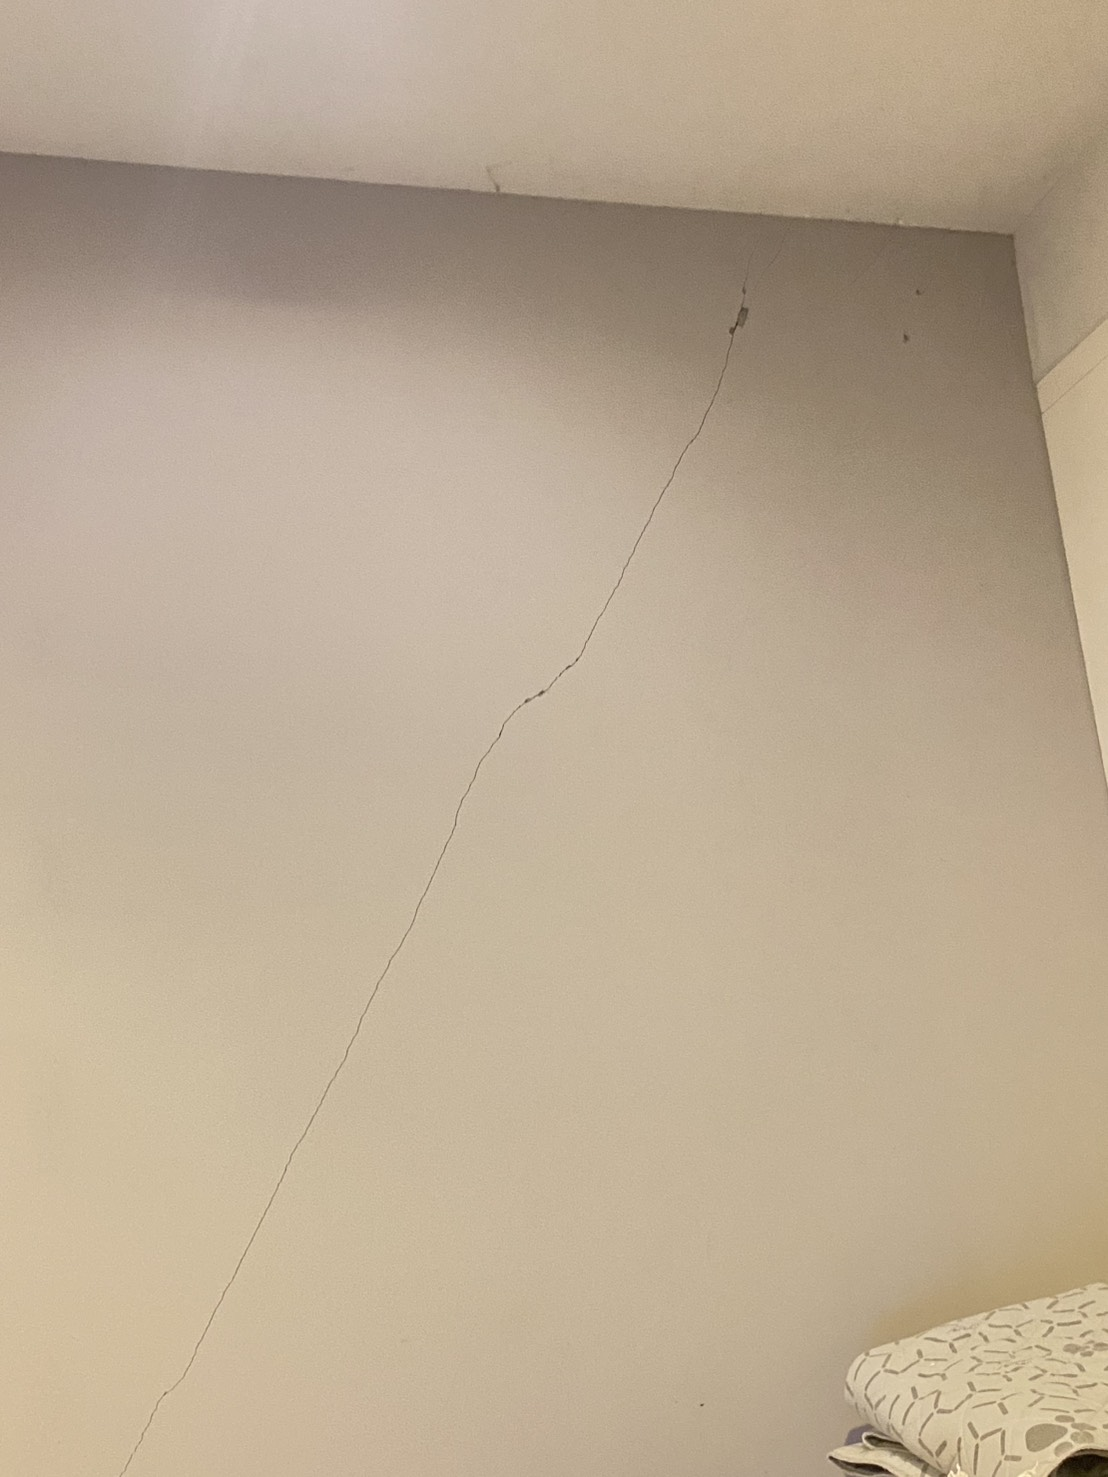Low: (125, 220, 800, 1468)
